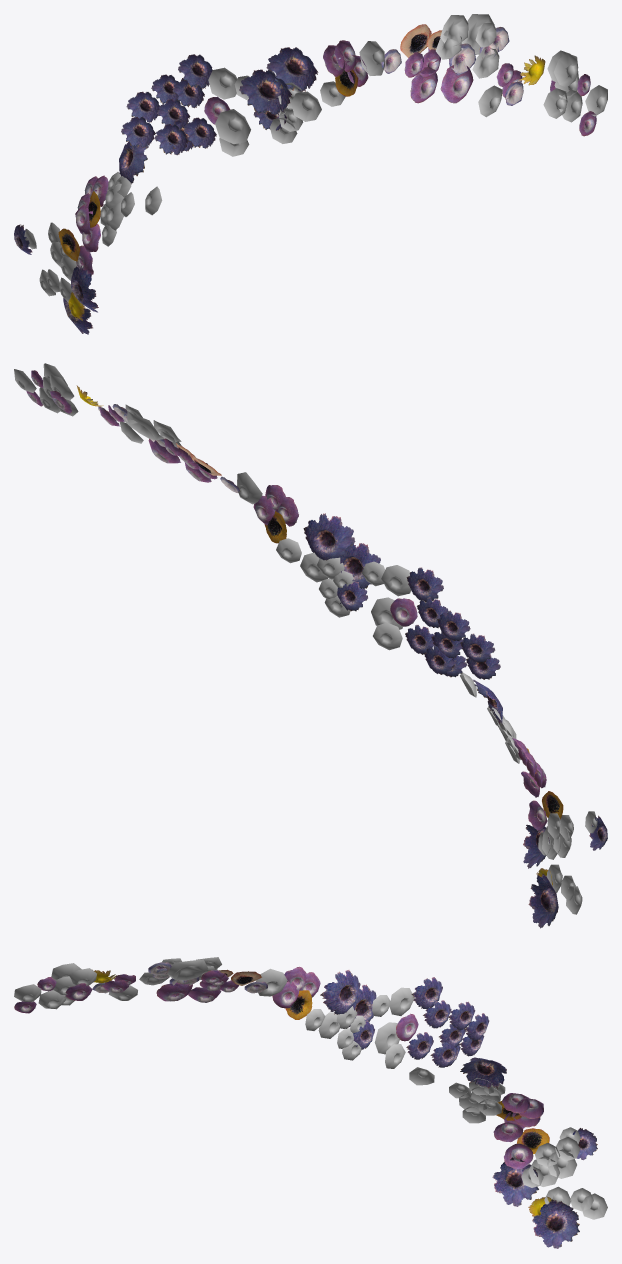
File: Right_Flower9.fbx
The picture shows the model from 3 angles, top to bottom: view 1: azimuth 30°, elevation 25°; view 2: azimuth 210°, elevation 25°; view 3: azimuth 270°, elevation 25°; orthographic projection. The views are drawn at different scales.
Visible parts, largest first — view 1: Circle.1620, Circle.1621, Circle.1635, Circle.1622, Circle.1672, Circle.1818, Circle.1782, Circle.1626, Circle.1629, Circle.1607, Circle.1630, Circle.1625 (+23 smaller); view 2: Circle.1621, Circle.1781, Circle.1620, Circle.1622; view 3: Circle.1781, Circle.1782, Circle.1621, Circle.1818, Circle.1622, Circle.1666, Circle.1797, Circle.1620, Circle.1604, Circle.1635, Circle.1633, Circle.1607 (+18 smaller).
Part boxes in pixels (x1,y1,x2,y2): Circle.1620: (239, 69, 291, 115); Circle.1621: (266, 47, 318, 91); Circle.1635: (215, 109, 250, 144); Circle.1622: (178, 54, 212, 88); Circle.1672: (440, 65, 473, 103); Circle.1818: (119, 141, 148, 184); Circle.1782: (71, 265, 98, 312); Circle.1626: (121, 116, 155, 147); Circle.1629: (154, 124, 188, 155); Circle.1607: (208, 67, 237, 99); Circle.1630: (183, 117, 216, 148); Circle.1625: (126, 91, 159, 122); Circle.1621: (303, 513, 355, 560); Circle.1781: (528, 873, 558, 928); Circle.1620: (340, 543, 380, 588); Circle.1622: (406, 567, 443, 602); Circle.1781: (532, 1199, 579, 1248); Circle.1782: (492, 1157, 538, 1206); Circle.1621: (320, 970, 360, 1014); Circle.1818: (460, 1057, 506, 1088); Circle.1622: (411, 977, 442, 1008); Circle.1666: (167, 959, 208, 980); Circle.1797: (504, 1143, 533, 1169); Circle.1620: (348, 984, 376, 1027); Circle.1604: (255, 968, 287, 996); Circle.1635: (374, 1022, 399, 1054); Circle.1633: (423, 1000, 451, 1028); Circle.1607: (389, 987, 414, 1015).
Size of the model in its own units: 148 by 210 by 295.
